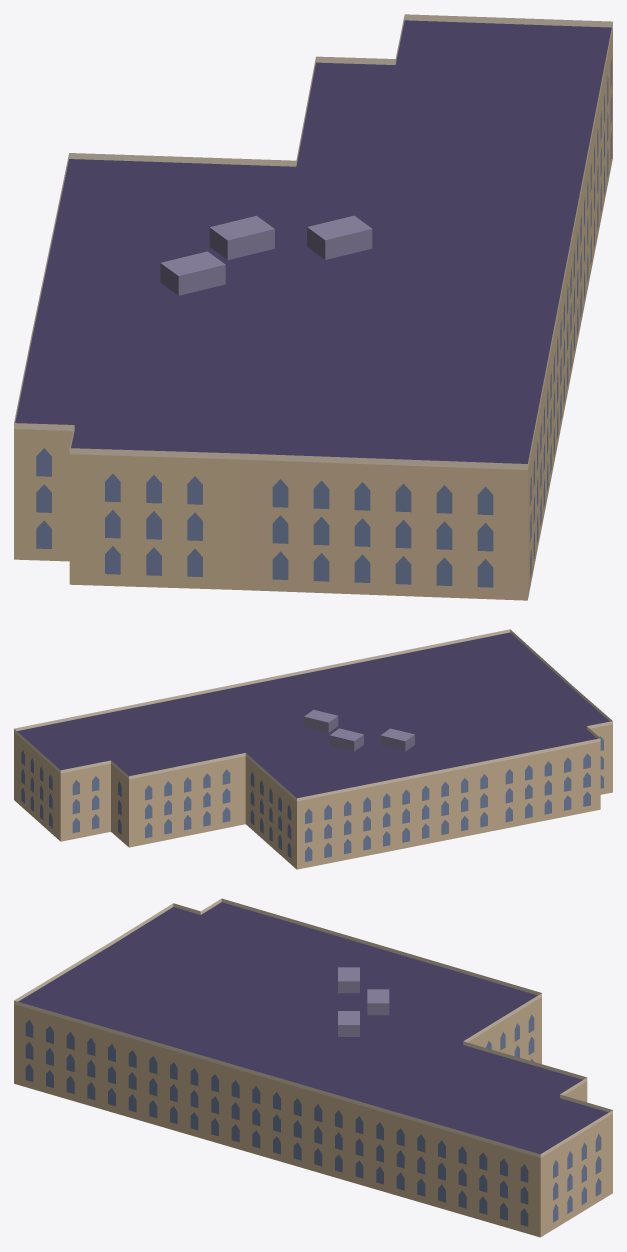
The model's file is b-095-john-labatt-visual-art-centre-day.glb.
The picture shows the model from 3 angles, top to bottom: view 1: azimuth 30°, elevation 25°; view 2: azimuth 150°, elevation 25°; view 3: azimuth 270°, elevation 25°; orthographic projection. The views are drawn at different scales.
Parts seen in each view (by area): view 1: campus/b-095-john-labatt-visual-art-centre-day-0; view 2: campus/b-095-john-labatt-visual-art-centre-day-0; view 3: campus/b-095-john-labatt-visual-art-centre-day-0.
Boxes of the visible parts, <box> form: campus/b-095-john-labatt-visual-art-centre-day-0: <box>14,14,612,600</box>; campus/b-095-john-labatt-visual-art-centre-day-0: <box>14,629,612,869</box>; campus/b-095-john-labatt-visual-art-centre-day-0: <box>14,898,612,1237</box>.
Bounding box in the file's own units: 82.09 × 13.7 × 81.22.
